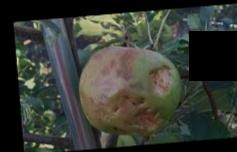rotten apple: (78, 42, 179, 139)
